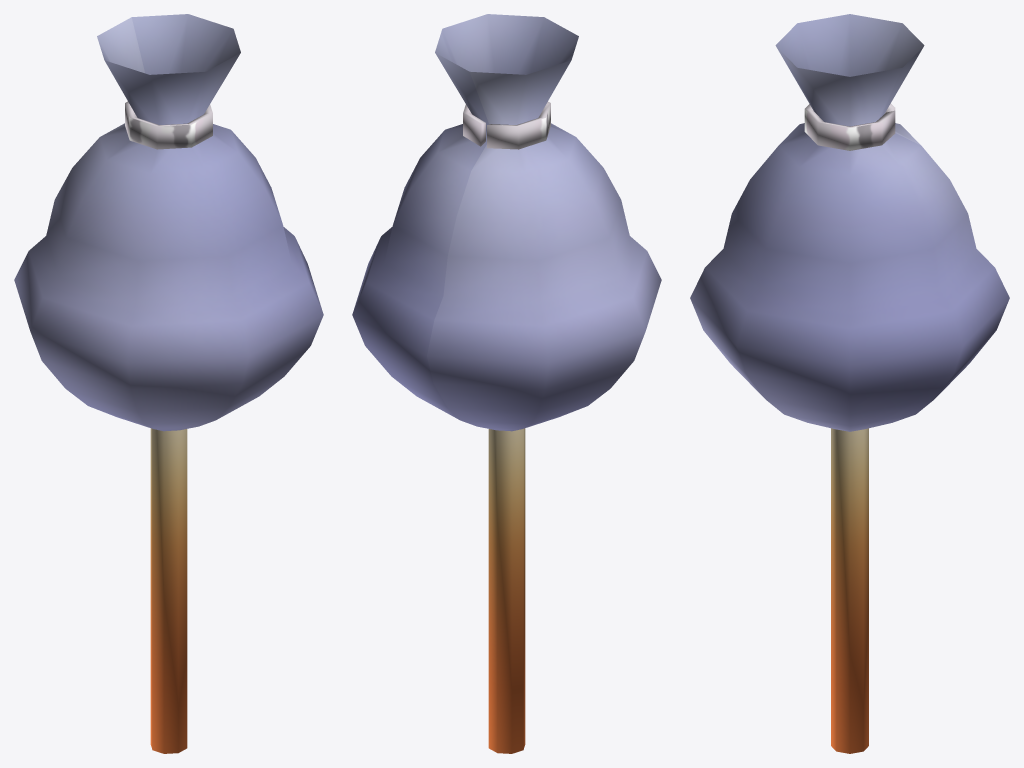
The model's file is Lolipop_BlackCat.fbx.
The picture shows the model from 3 angles, left to right: view 1: azimuth 30°, elevation 25°; view 2: azimuth 150°, elevation 25°; view 3: azimuth 270°, elevation 25°; orthographic projection.
Parts seen in each view (by area): view 1: Lolipop_BlackCat; view 2: Lolipop_BlackCat; view 3: Lolipop_BlackCat.
Part boxes in pixels (x1,y1,x2,y2): Lolipop_BlackCat: (14, 14, 323, 753); Lolipop_BlackCat: (352, 14, 661, 753); Lolipop_BlackCat: (690, 14, 1009, 753).
Bounding box in the file's own units: 183 × 442 × 183.
1 material, 1 textured.
